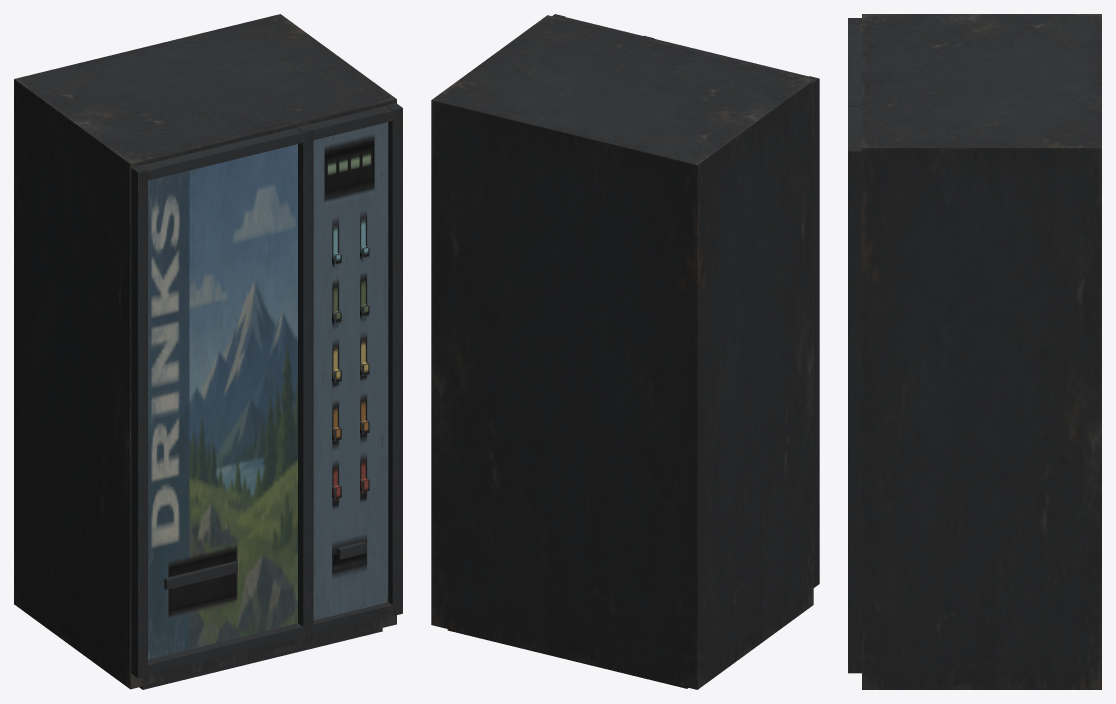
File: vending_machine.glb
The picture shows the model from 3 angles, left to right: view 1: azimuth 30°, elevation 25°; view 2: azimuth 150°, elevation 25°; view 3: azimuth 270°, elevation 25°; orthographic projection. The views are drawn at different scales.
Parts seen in each view (by area): view 1: core_vending_machine; view 2: core_vending_machine; view 3: core_vending_machine.
Part boxes in pixels (x1,y1,x2,y2): core_vending_machine: (14, 14, 402, 689); core_vending_machine: (431, 14, 819, 689); core_vending_machine: (848, 14, 1101, 689).
Bounding box in the file's own units: 1 × 1.9 × 0.8.
Materials: 1 (1 with a texture image).
